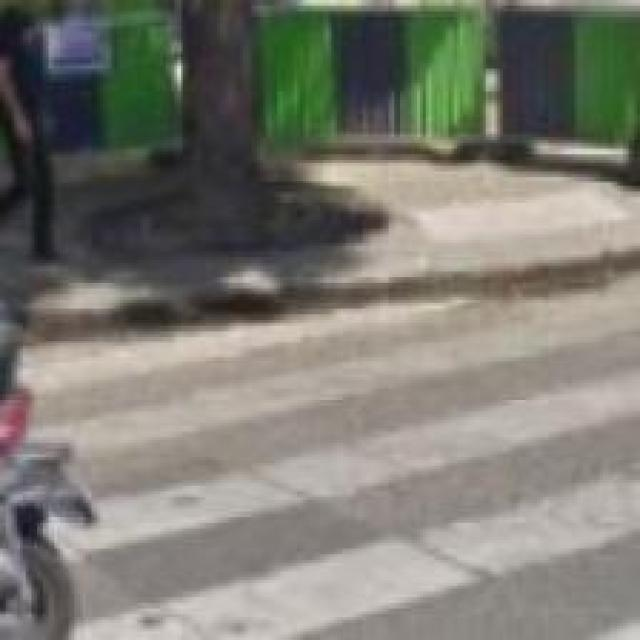walk-crossing: (15, 298, 636, 636)
